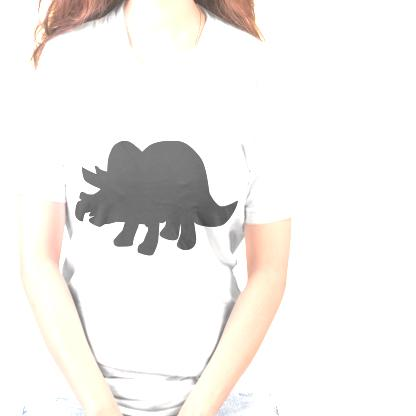dress: (7, 0, 314, 416)
